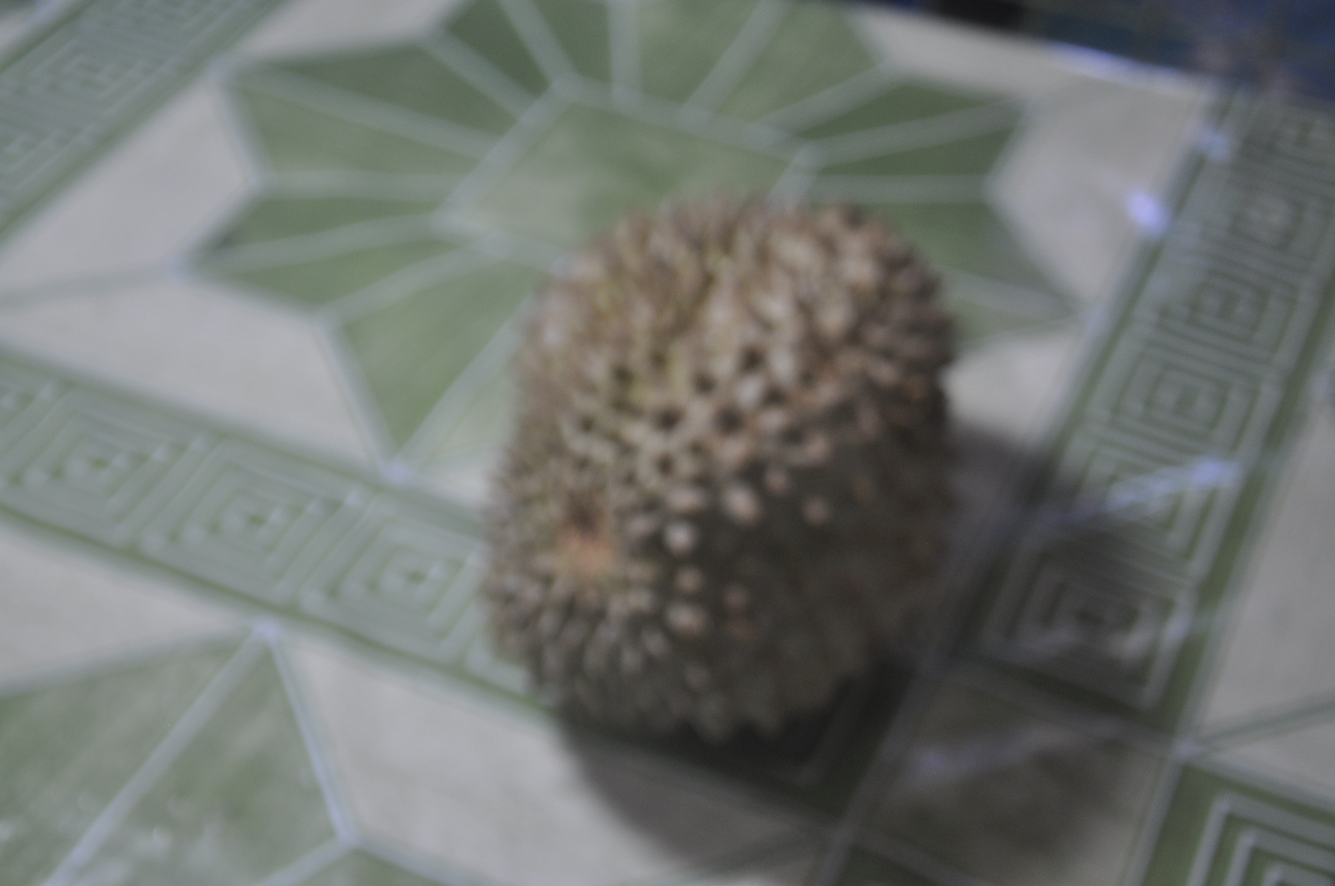mature: (483, 193, 953, 742)
